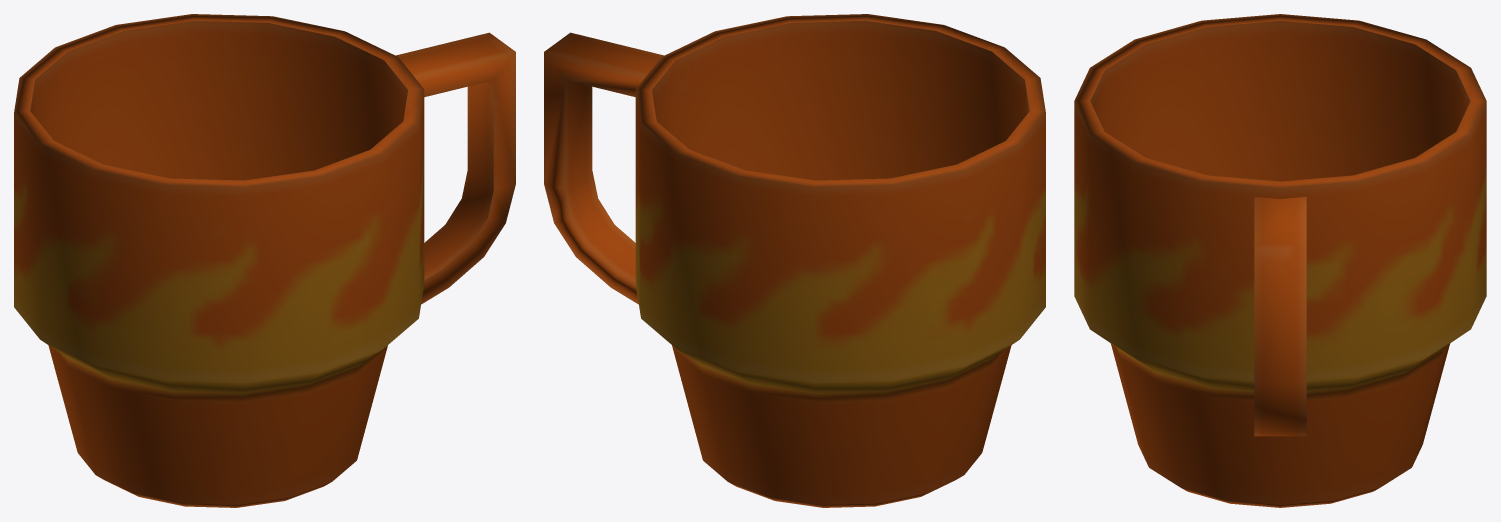
File: pi_cup02_06.gltf
3 renders of one model, left to right at view 1: azimuth 30°, elevation 25°; view 2: azimuth 150°, elevation 25°; view 3: azimuth 270°, elevation 25°, orthographic.
Visible parts, largest first — view 1: pi_cup02_06_mesh_shape:pi_cup02_06_body01; view 2: pi_cup02_06_mesh_shape:pi_cup02_06_body01; view 3: pi_cup02_06_mesh_shape:pi_cup02_06_body01.
Part boxes in pixels (box(x1,y1,x2,y2)): pi_cup02_06_mesh_shape:pi_cup02_06_body01: box(14, 14, 515, 507); pi_cup02_06_mesh_shape:pi_cup02_06_body01: box(544, 14, 1045, 507); pi_cup02_06_mesh_shape:pi_cup02_06_body01: box(1074, 14, 1486, 507).
Size of what is drawn, in the model's own units: 0.1646 by 0.1197 by 0.1275.
Materials: 1 (1 with a texture image).
